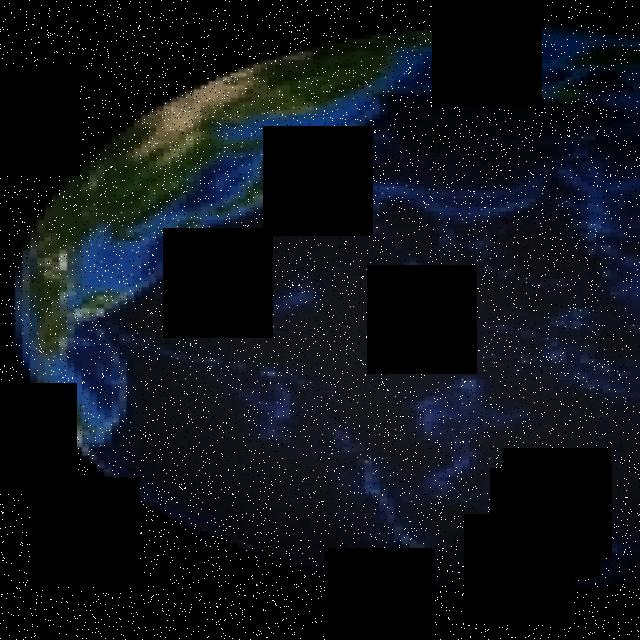Earth: (8, 21, 640, 594)
